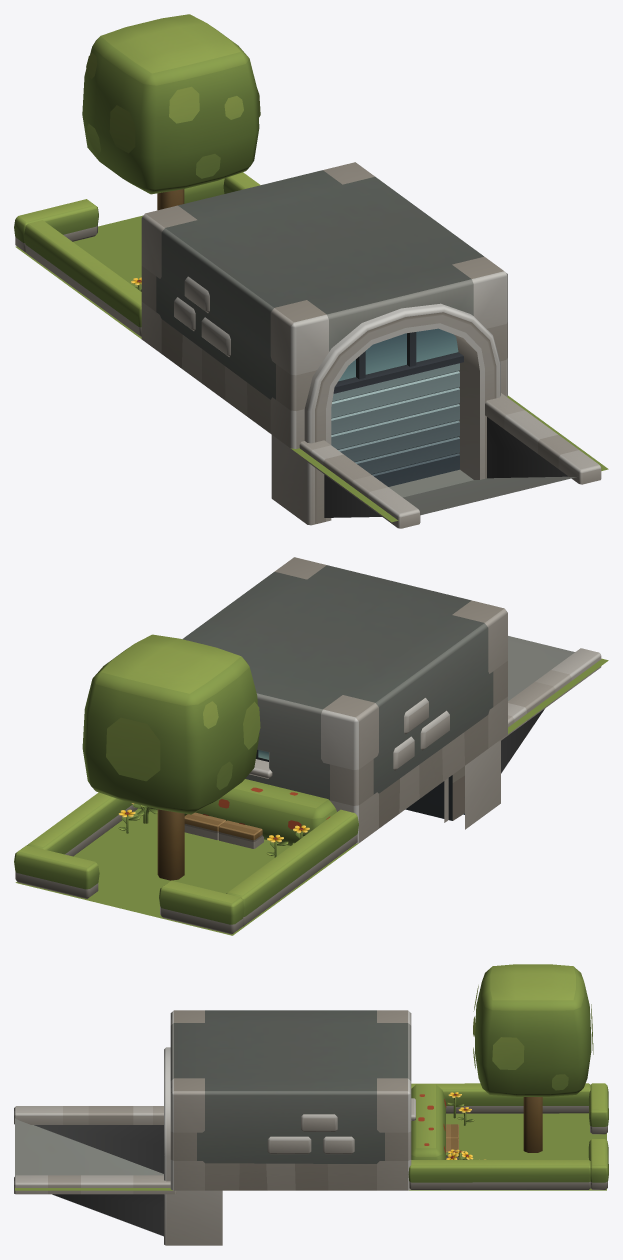
File: garage_ground_grey.fbx
The picture shows the model from 3 angles, top to bottom: view 1: azimuth 30°, elevation 25°; view 2: azimuth 150°, elevation 25°; view 3: azimuth 270°, elevation 25°; orthographic projection. The views are drawn at different scales.
Visible parts, largest first — view 1: garage_ground_grey, door_garage; view 2: garage_ground_grey; view 3: garage_ground_grey.
Part boxes in pixels (left/top/right/bottom): garage_ground_grey: left=14, top=14, right=608, bottom=528; door_garage: left=331, top=363, right=459, bottom=486; garage_ground_grey: left=14, top=557, right=608, bottom=935; garage_ground_grey: left=14, top=964, right=608, bottom=1245.
Size of the model in its own units: 619 by 770 by 1809.
